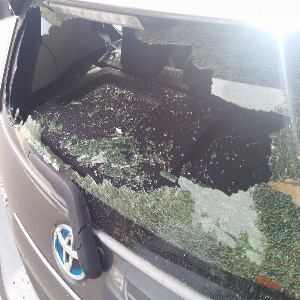rear_windshield_glass: (15, 8, 298, 233)
